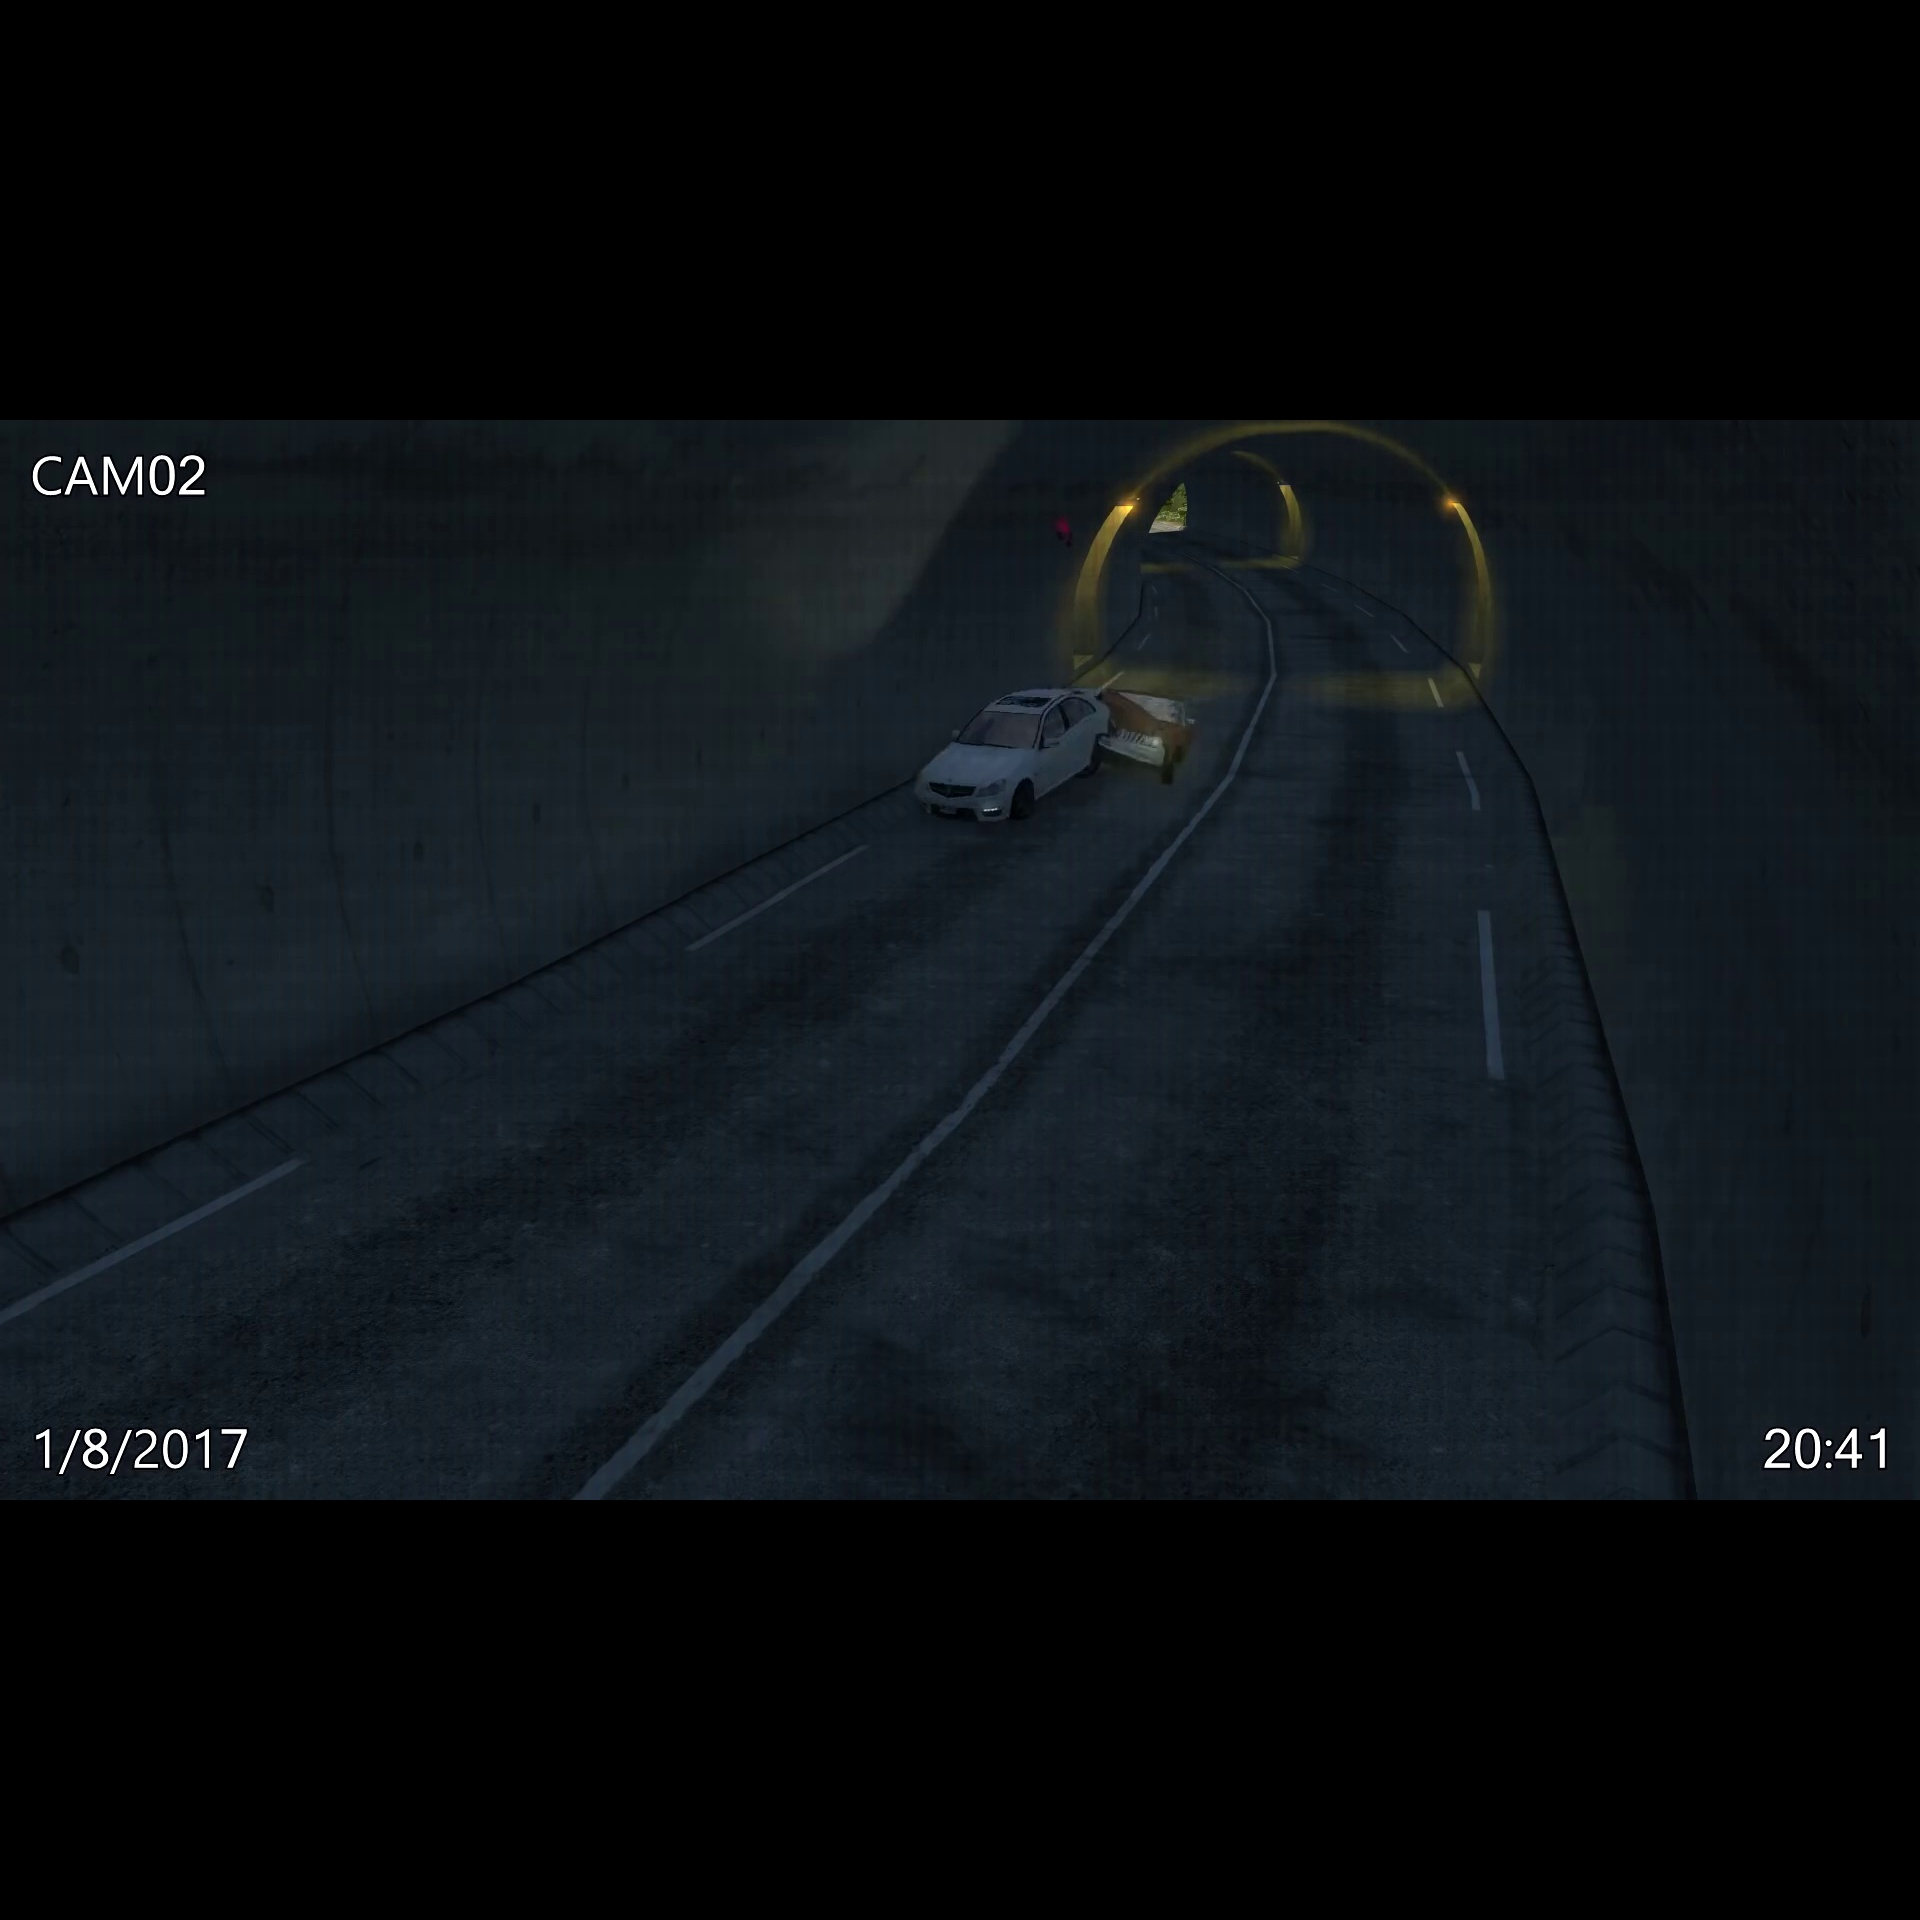vehicle: (904, 686, 1109, 835), (1095, 680, 1213, 788)
